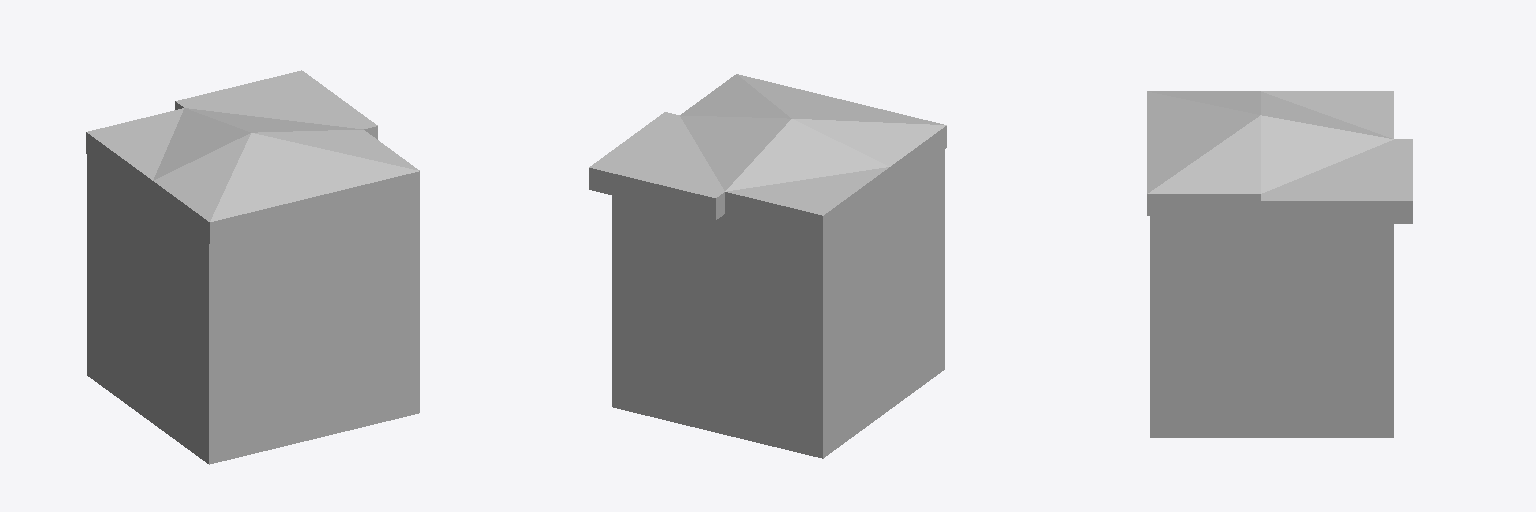
File: mylandscaping_column_inside_corner_upper.obj
3 views of the same model, side by side, from view 1: azimuth 30°, elevation 25°; view 2: azimuth 150°, elevation 25°; view 3: azimuth 270°, elevation 25° (orthographic).
Visible parts, largest first — view 1: Block_InsideCorner_Top.001_Cube.008; view 2: Block_InsideCorner_Top.001_Cube.008; view 3: Block_InsideCorner_Top.001_Cube.008.
Boxes of the visible parts, <box> form: Block_InsideCorner_Top.001_Cube.008: <box>86,70,419,464</box>; Block_InsideCorner_Top.001_Cube.008: <box>589,74,946,458</box>; Block_InsideCorner_Top.001_Cube.008: <box>1147,91,1412,437</box>.
Size of the model in its own units: 1.07 by 1.21 by 1.09.